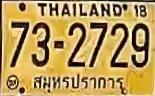2: (110, 22, 128, 67), (67, 22, 85, 66)
3: (30, 21, 50, 66)
7: (10, 21, 28, 67), (89, 22, 107, 66)
9: (130, 22, 148, 67)
SPK: (30, 72, 123, 91)
